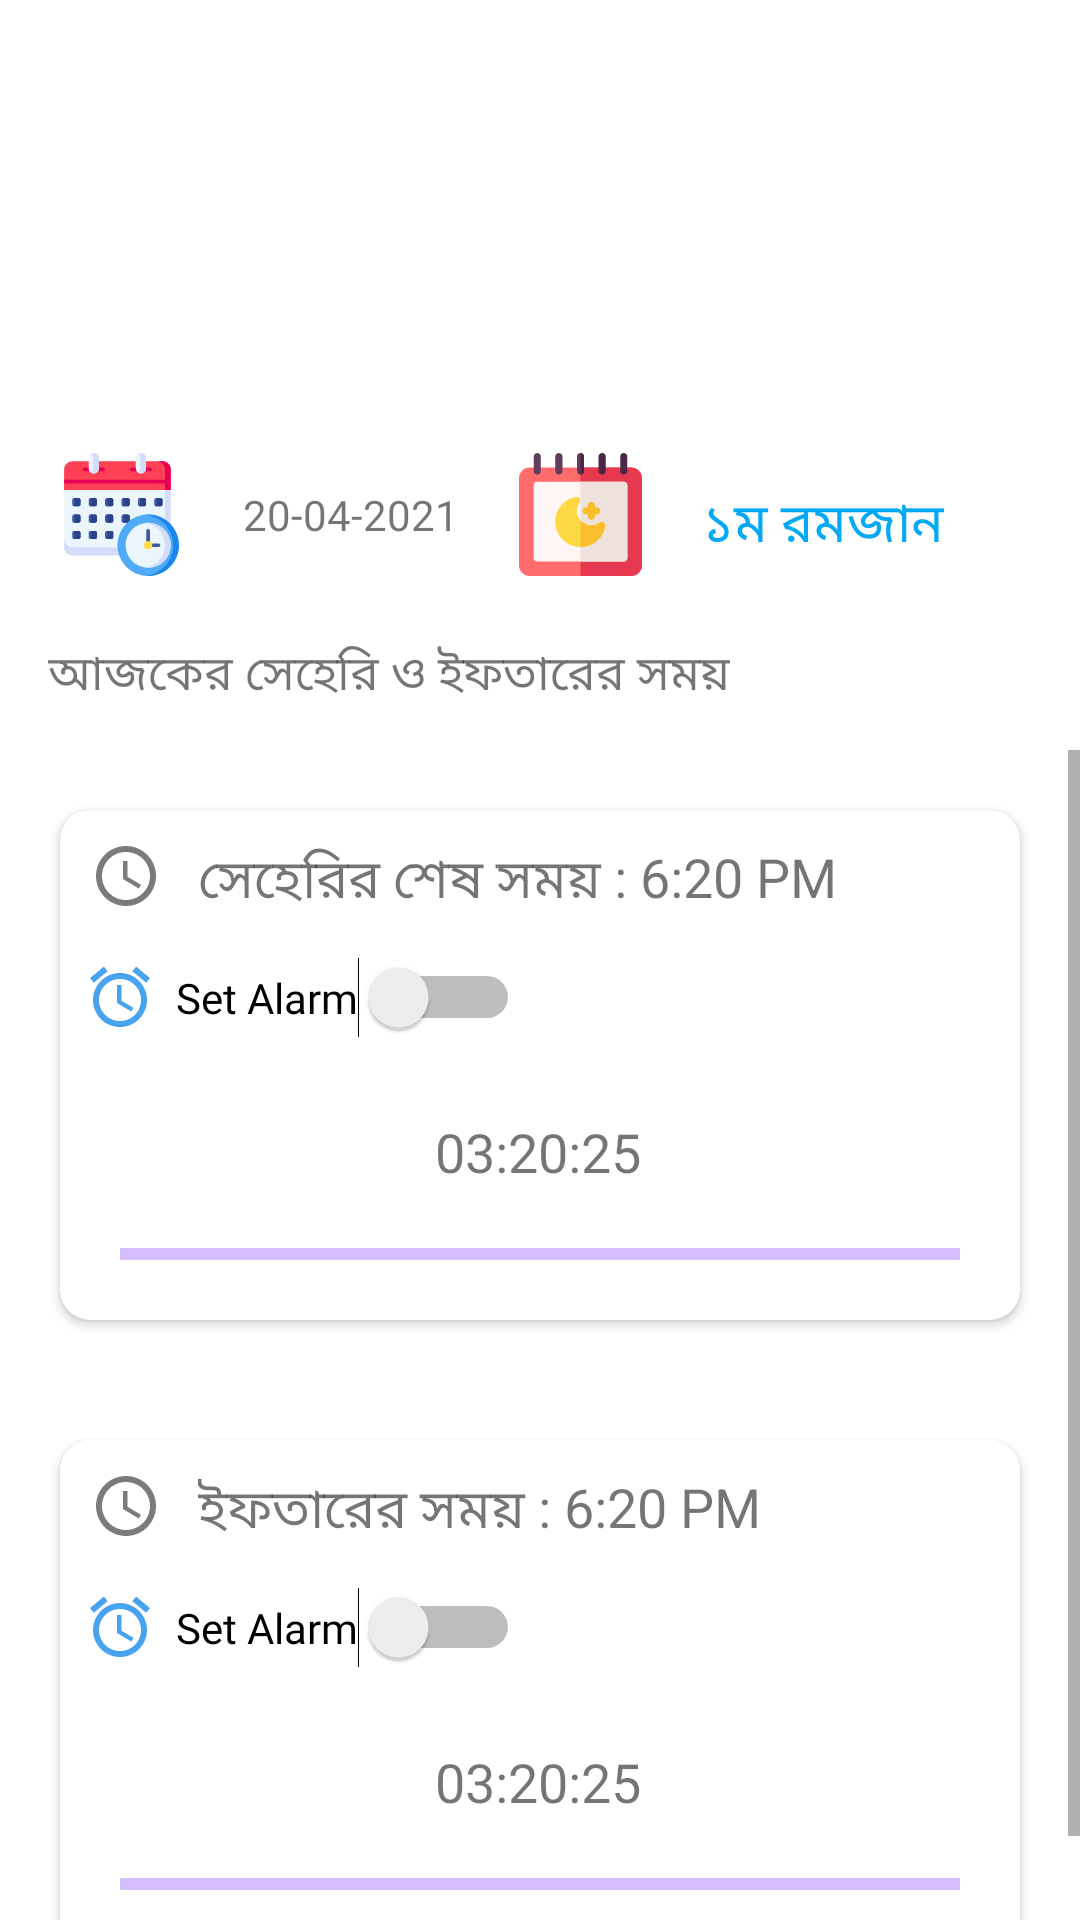

Named icons in this screenshot (1080 × 1920) and their centers, [x,y]:
ramadan: [580,514]
schedule: [121,514]
time: [126,876], [126,1506]
